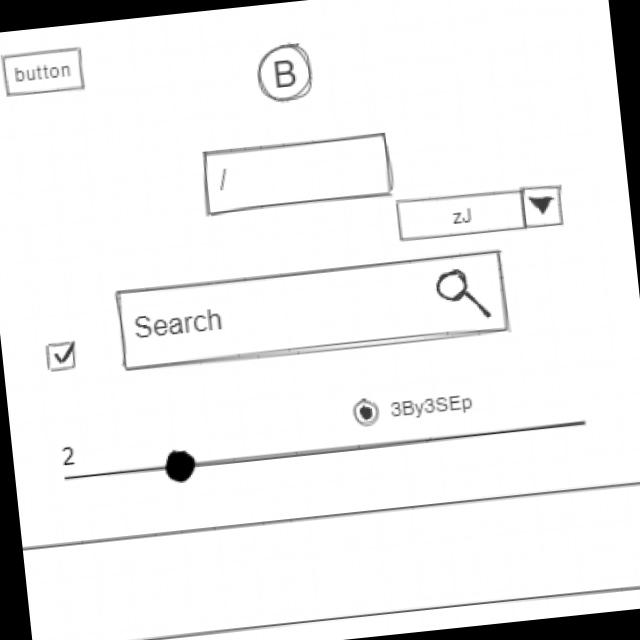button: (0, 43, 88, 99)
checkbox: (42, 336, 80, 373)
container: (21, 476, 640, 640)
icon-button: (252, 39, 316, 106)
input: (197, 128, 398, 218)
radio: (348, 386, 476, 428)
search: (112, 246, 512, 375)
select: (393, 180, 567, 244)
slider: (80, 404, 590, 493)
